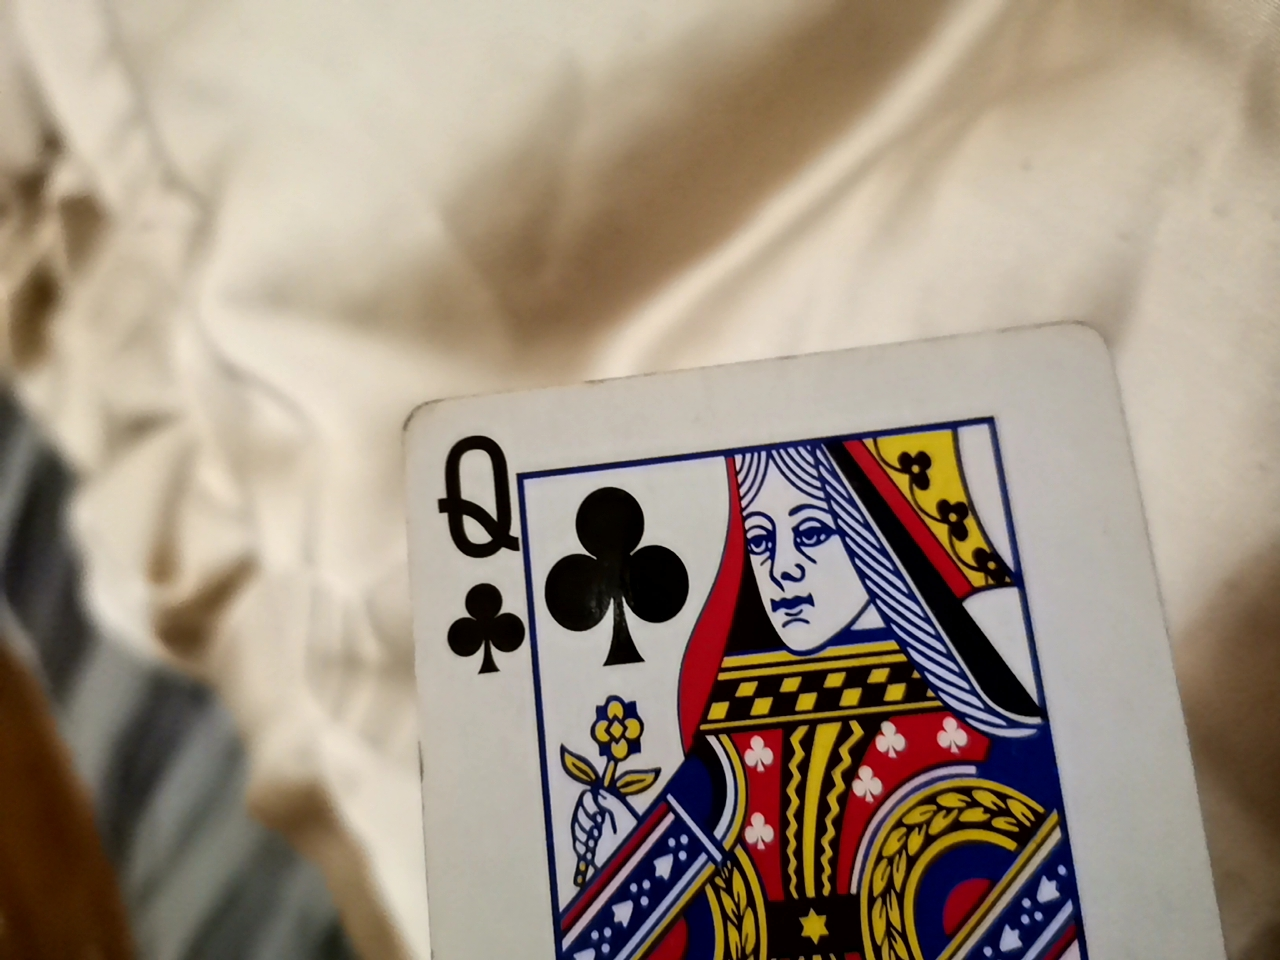mh q: (391, 311, 1247, 953)
